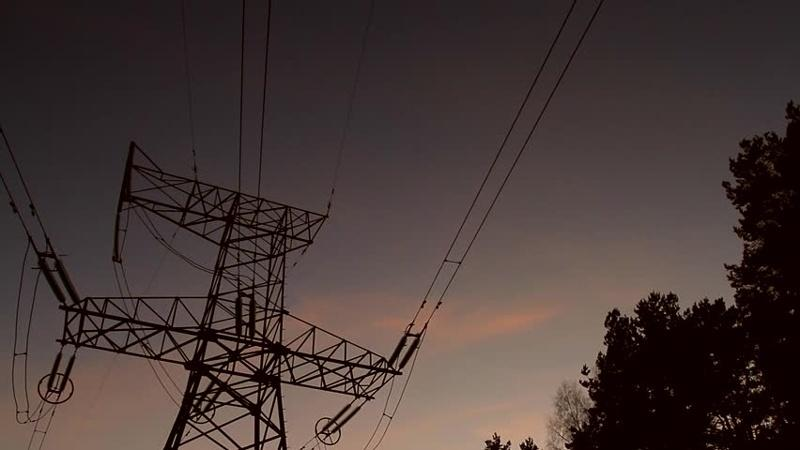power_tower: (35, 136, 417, 439)
